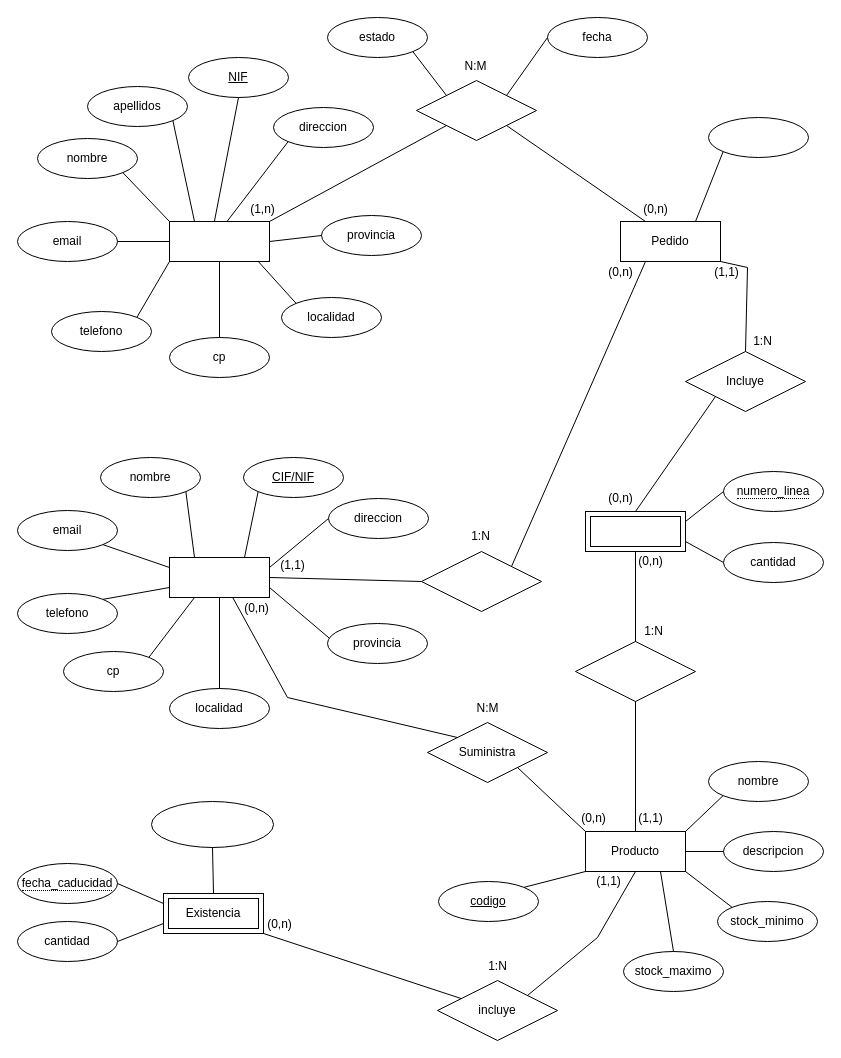
This 841x1058 diagram has some shape labels left out. The shapes that lost their labels are listed below. From the top down, each one's centre as x and y in pixels, then its label:
At (476,110): "Cambia_estado".
At (758,137): "numero".
At (219,241): "Usuario".
At (635,531): "Linea_pedido".
At (219,577): "Proveedor".
At (481,581): "Gestiona".
At (635,671): "Solicita".
At (212,824): "fecha_actualizacion".
